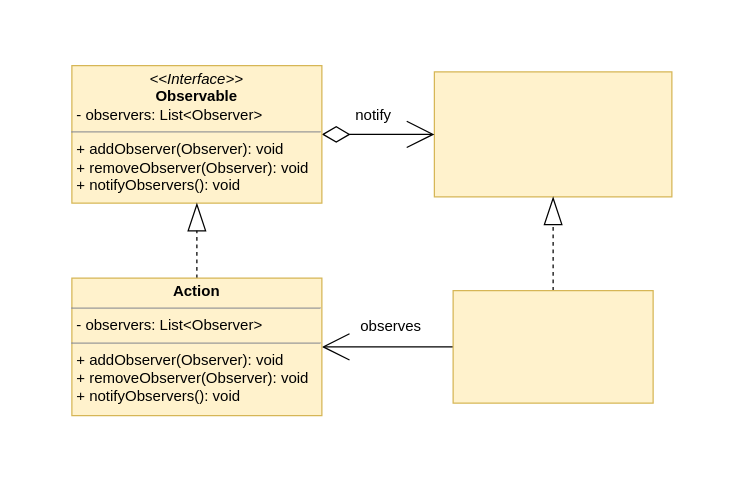
Some shapes in this 743 by 493 pixel diagram are drawn without their labels. Here are the shapes that lost their labels. From the top down, the centre of each, then its label:
At [552,134]: "<<Interface>> Observer + updateObserver(): void".
At [552,346]: "Plot - action: Action + updateObserver(): void".
